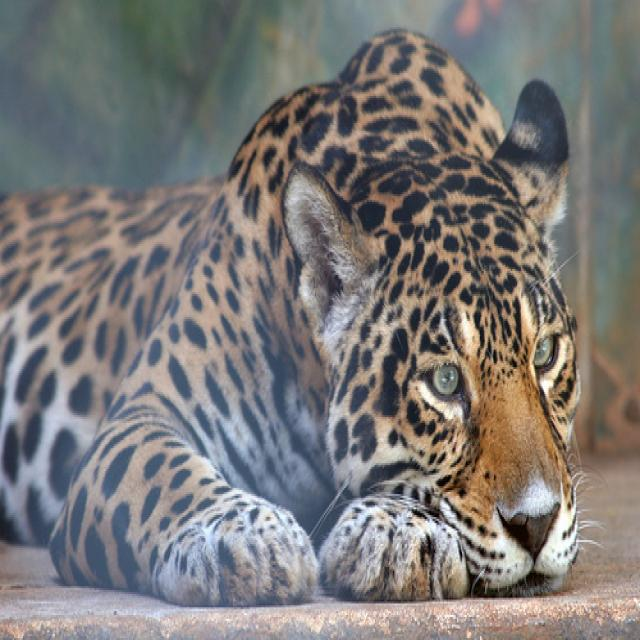Leopard: (0, 21, 603, 613)
